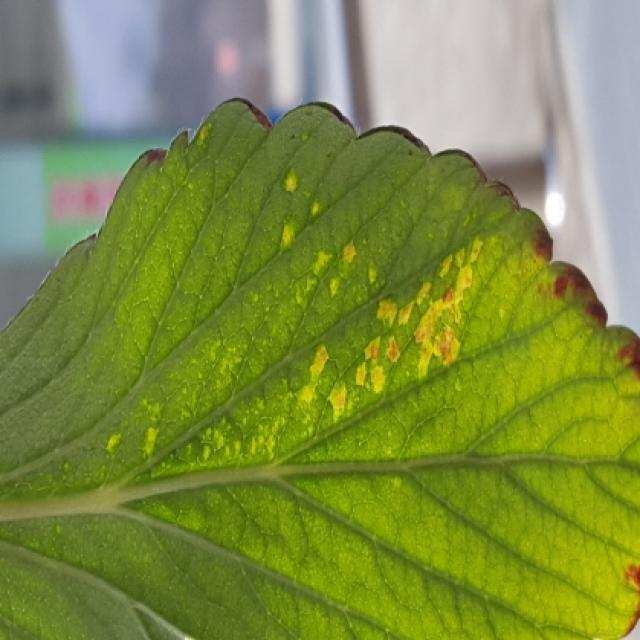Angular Leafspot: (77, 157, 525, 502)
